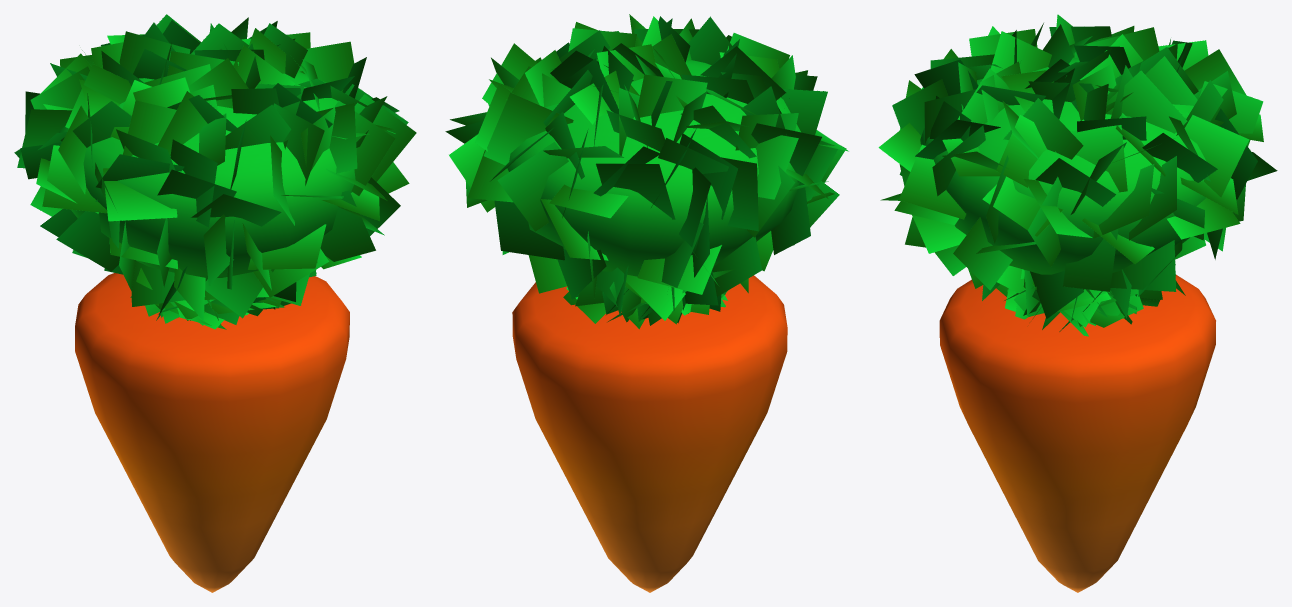
Rendered from Carotte.fbx.
The picture shows the model from 3 angles, left to right: view 1: azimuth 30°, elevation 25°; view 2: azimuth 150°, elevation 25°; view 3: azimuth 270°, elevation 25°; orthographic projection.
Parts seen in each view (by area): view 1: Cylinder.001; view 2: Cylinder.001; view 3: Cylinder.001.
Boxes of the visible parts, x1,y1,x2,y2 form: Cylinder.001: (14, 14, 416, 592); Cylinder.001: (445, 14, 848, 592); Cylinder.001: (878, 14, 1277, 592).
Bounding box in the file's own units: 147 × 216 × 144.
